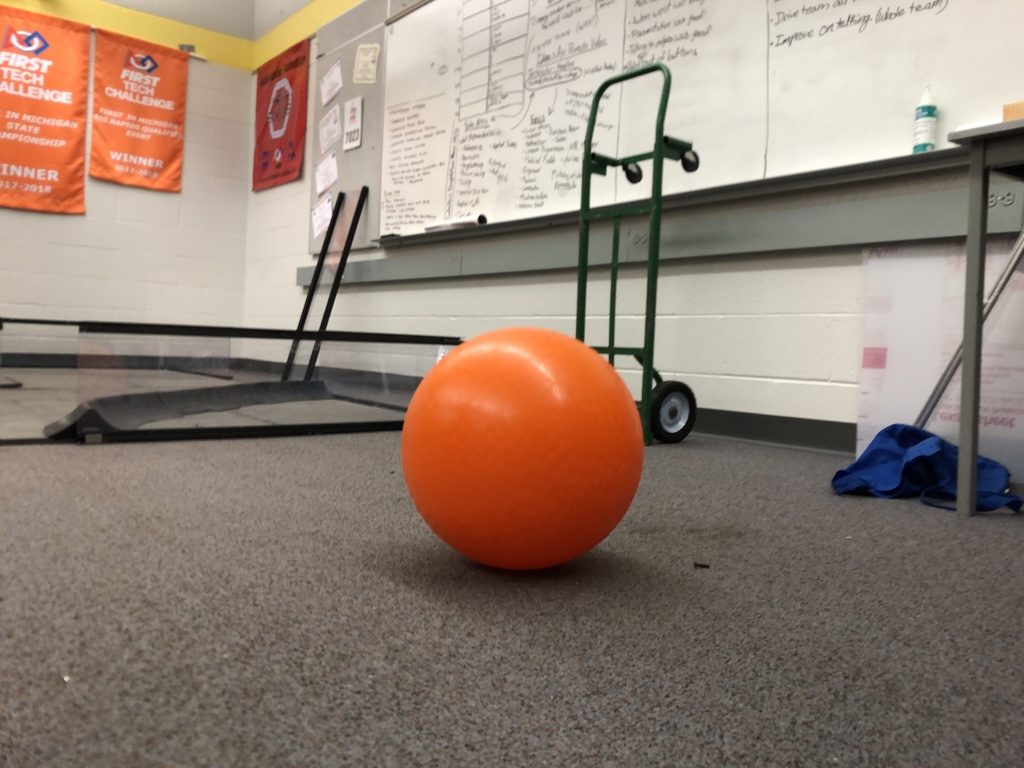cargo: (403, 321, 662, 588)
